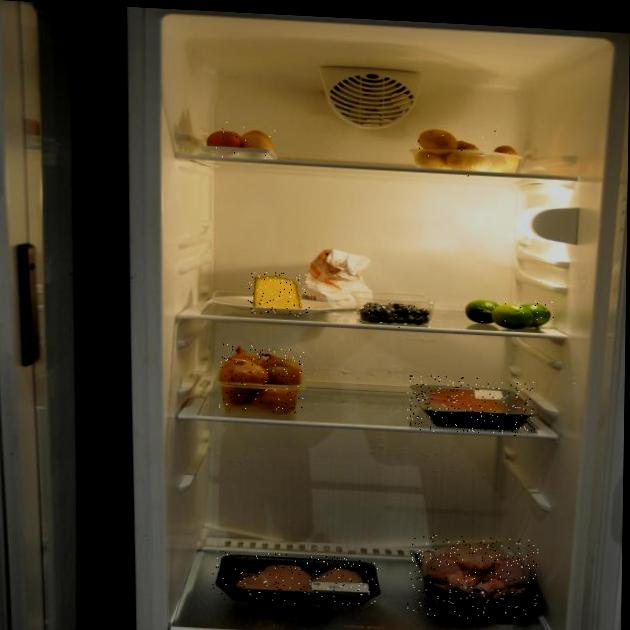cheese: (248, 271, 312, 317)
chicken: (406, 534, 538, 622)
eggs: (209, 118, 276, 162)
lime: (469, 293, 554, 330)
meat: (212, 550, 378, 608), (407, 374, 534, 437)
olive: (354, 300, 432, 330)
onion: (219, 344, 306, 415)
potatoes: (412, 125, 529, 183)
